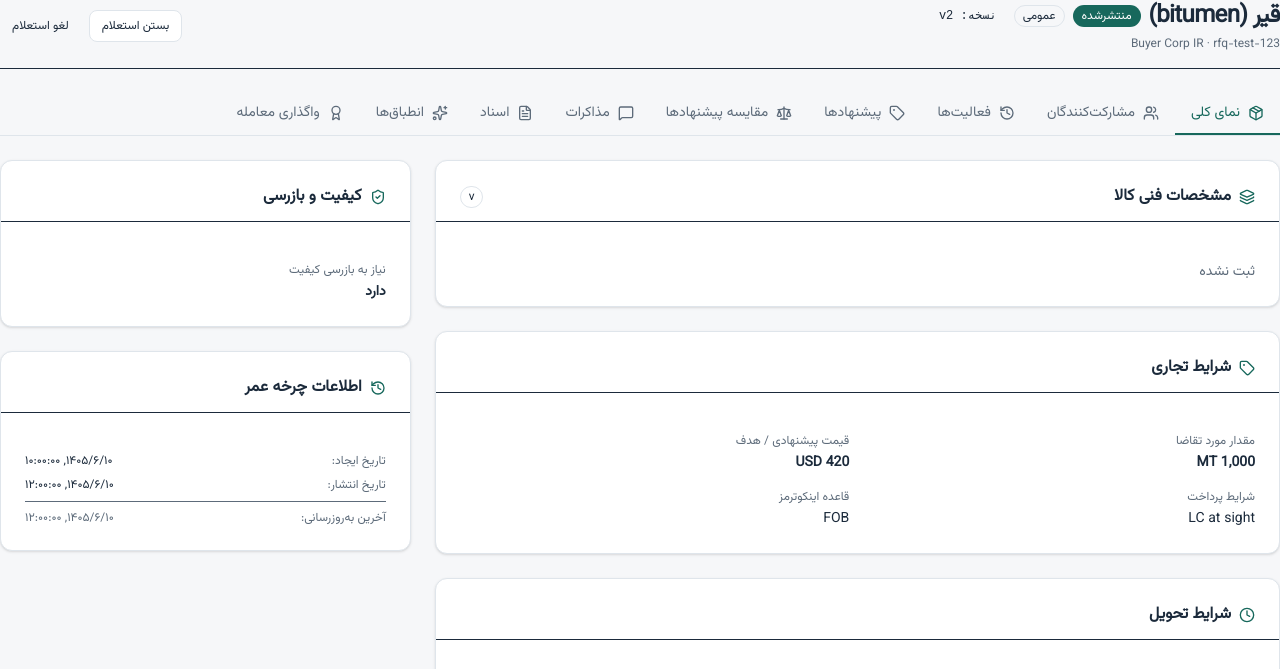
T0807 — Offer Comparison & Decision Support UI Suite › 1. renders current version only (V2 active, not older versions) and excludes drafts
Click the button "مقایسه پیشنهادها" at (729, 114), box [650,93,808,135]
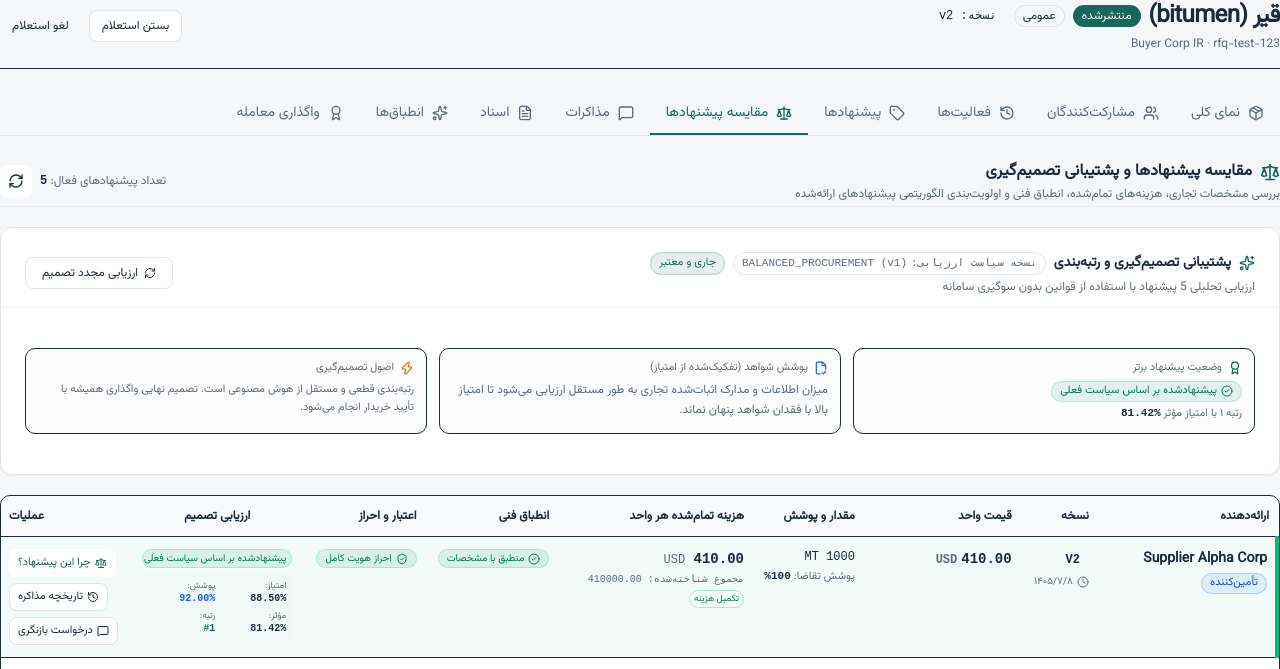
Now the text "Supplier Alpha Corp" is shown, box [1143,549,1267,569]
Now the text "V2" is shown, box [1066,553,1080,567]
